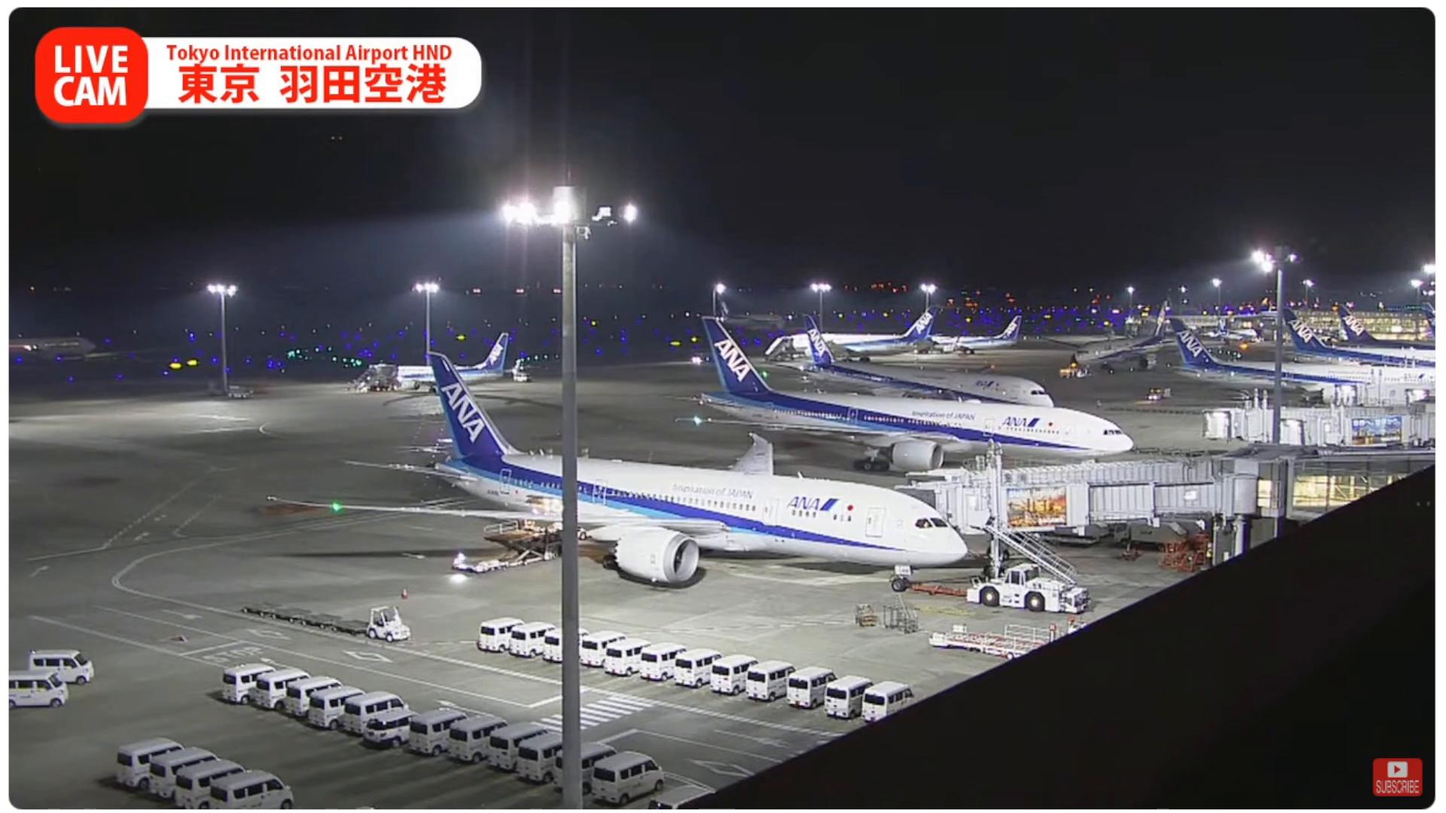APS: (968, 561, 1090, 612)
Aerobridge: (895, 475, 1256, 534), (894, 455, 1223, 486)
Airplane: (270, 351, 971, 589)
Dolly: (241, 599, 370, 637)
JCPL: (453, 517, 561, 571), (930, 624, 1061, 658)
Tractor: (365, 605, 412, 641)
Window: (1290, 455, 1437, 521)
